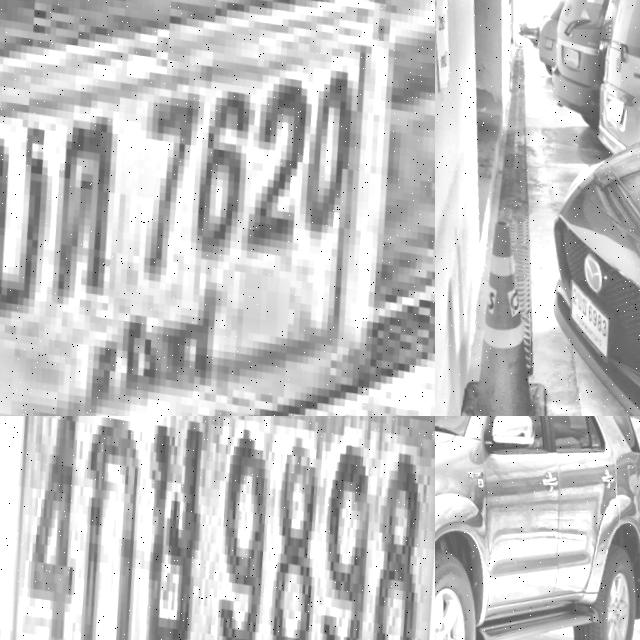license-plate: (0, 0, 435, 416), (0, 416, 435, 640), (560, 271, 614, 360), (559, 38, 581, 71), (603, 87, 624, 121), (540, 28, 554, 48)
